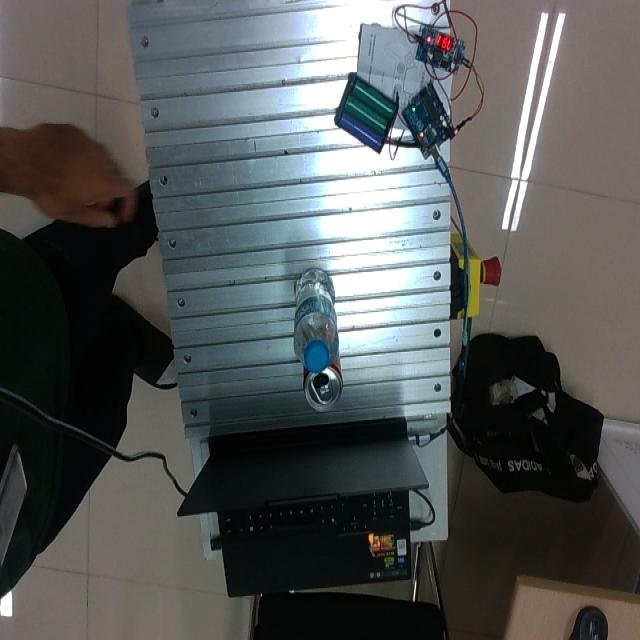coca: (303, 345, 344, 412)
lavie: (293, 270, 340, 378)
